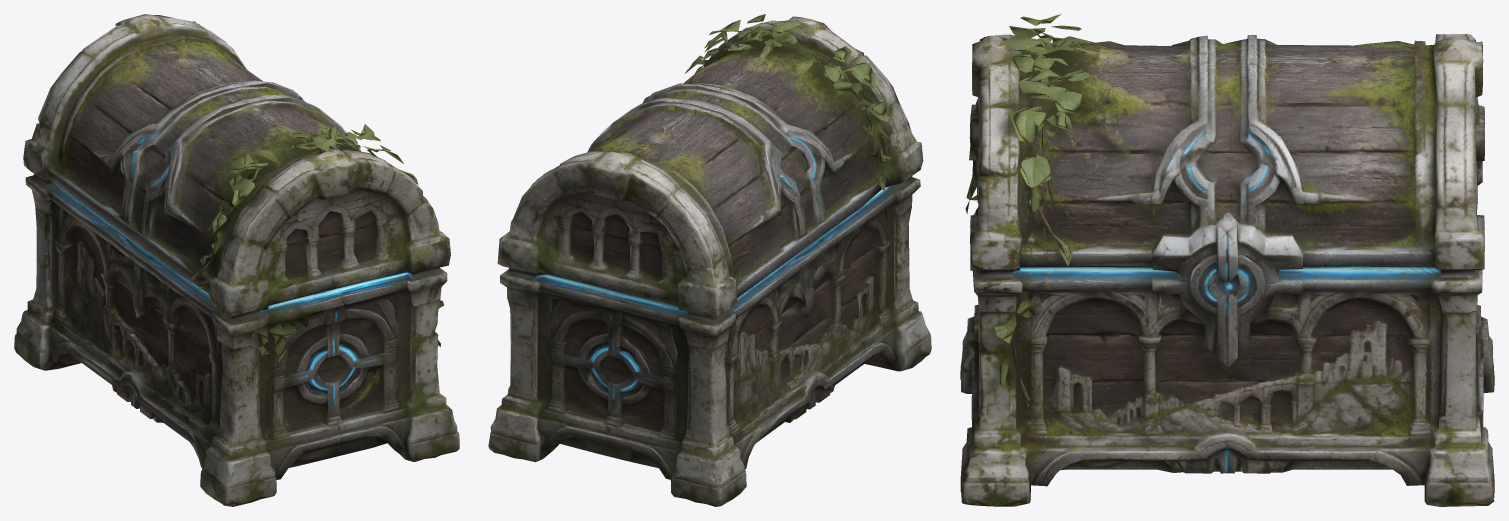
Rendered from env_chest.glb.
3 renders of one model, left to right at view 1: azimuth 30°, elevation 25°; view 2: azimuth 150°, elevation 25°; view 3: azimuth 270°, elevation 25°, orthographic. The views are drawn at different scales.
Parts seen in each view (by area): view 1: tripo_node_0f4ed8a4-7a5d-47f6-86bf-89f0473a70b0; view 2: tripo_node_0f4ed8a4-7a5d-47f6-86bf-89f0473a70b0; view 3: tripo_node_0f4ed8a4-7a5d-47f6-86bf-89f0473a70b0.
Part boxes in pixels (x1,y1,x2,y2): tripo_node_0f4ed8a4-7a5d-47f6-86bf-89f0473a70b0: [14, 14, 459, 506]; tripo_node_0f4ed8a4-7a5d-47f6-86bf-89f0473a70b0: [488, 14, 931, 506]; tripo_node_0f4ed8a4-7a5d-47f6-86bf-89f0473a70b0: [960, 14, 1494, 506].
Bounding box in the file's own units: 0.6324 × 0.8309 × 1.
Materials: 1 (1 with a texture image).
